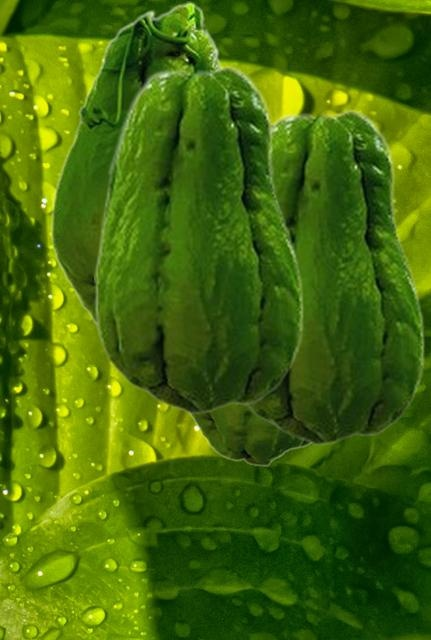sayote: (94, 64, 303, 414), (244, 108, 424, 445), (50, 1, 223, 326), (187, 405, 310, 466)
